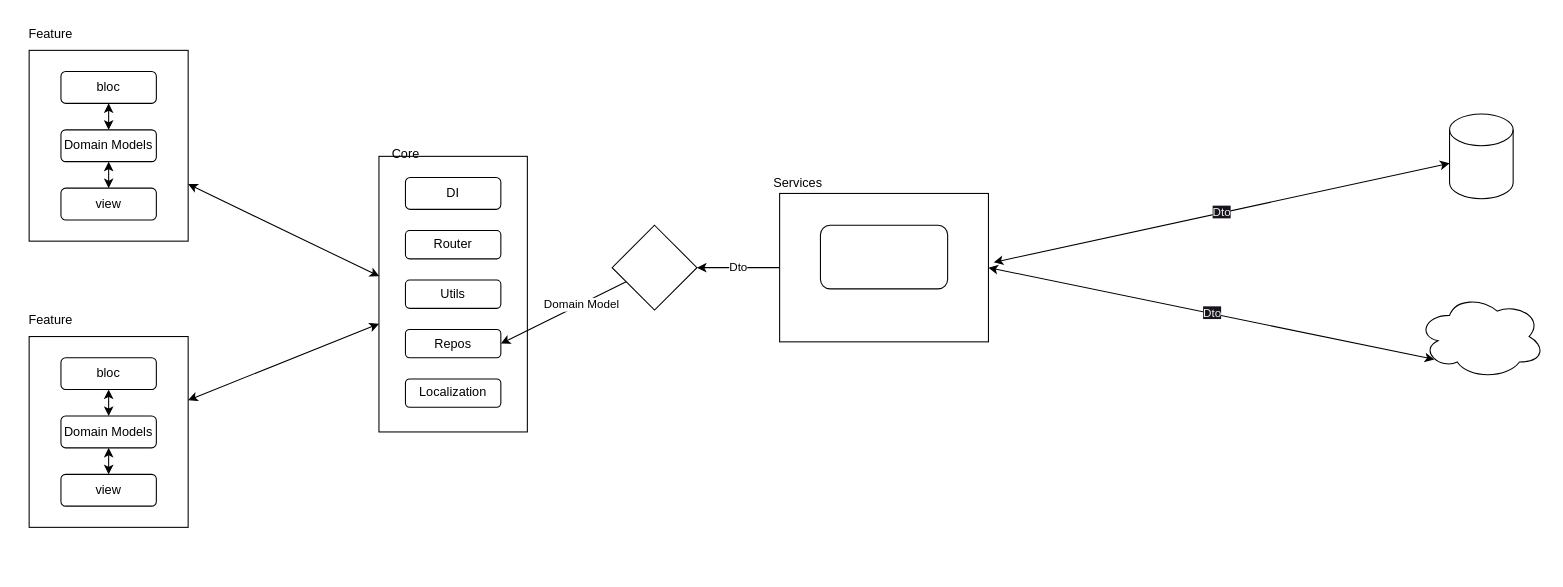
This 1563x587 diagram has some shape labels left out. Each missing label, with the box of its shape:
API: (1417, 293, 1545, 379)
Data Layer: (611, 224, 697, 310)
Local DB: (1448, 113, 1513, 199)
Network: (819, 224, 948, 289)
